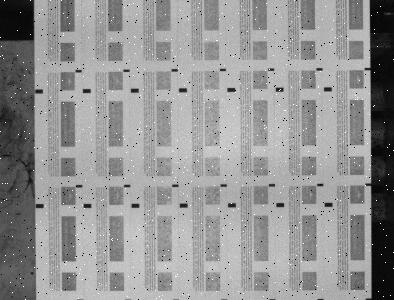backgroundclutter: (31, 271, 34, 275)
qblock: (83, 203, 92, 208), (131, 203, 140, 208), (179, 203, 188, 208), (36, 203, 44, 208), (131, 88, 139, 93), (276, 87, 284, 92), (325, 202, 333, 207), (227, 88, 236, 92), (35, 89, 43, 93), (83, 89, 91, 93), (324, 87, 332, 91), (179, 88, 187, 92), (277, 203, 285, 207), (228, 203, 236, 207)
smallqblock: (76, 184, 82, 188), (124, 184, 131, 187), (317, 183, 324, 186), (123, 69, 130, 72), (75, 70, 82, 73), (221, 184, 227, 187), (269, 68, 275, 71), (220, 68, 226, 71), (172, 69, 178, 72), (317, 68, 323, 71), (366, 183, 372, 186), (172, 185, 179, 187), (269, 184, 276, 186), (269, 298, 276, 300), (317, 298, 324, 300), (221, 298, 228, 300), (172, 298, 179, 300), (76, 298, 83, 300), (365, 68, 371, 70), (125, 298, 131, 300), (366, 298, 372, 300)
